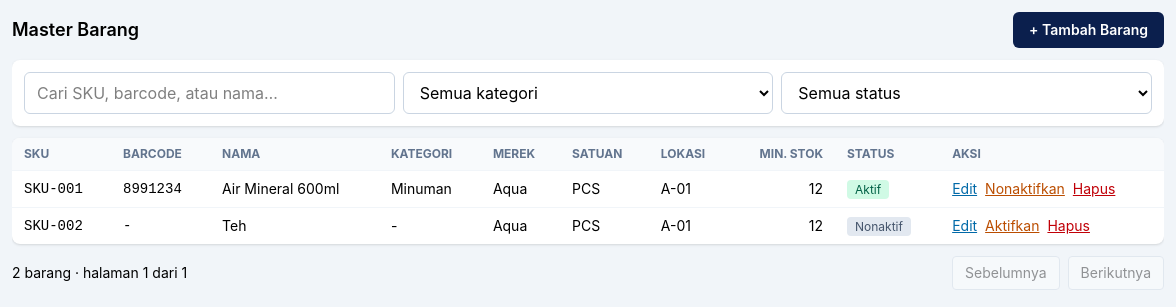
Test: Master Barang › nonaktifkan/aktifkan membalik status; hapus meminta konfirmasi
The image size is (1176, 307).
expect the text "SKU-001" is shown: met, box [12, 170, 111, 208]
Step 1. Click the button "Nonaktifkan" → (1025, 189), box [985, 179, 1065, 199]
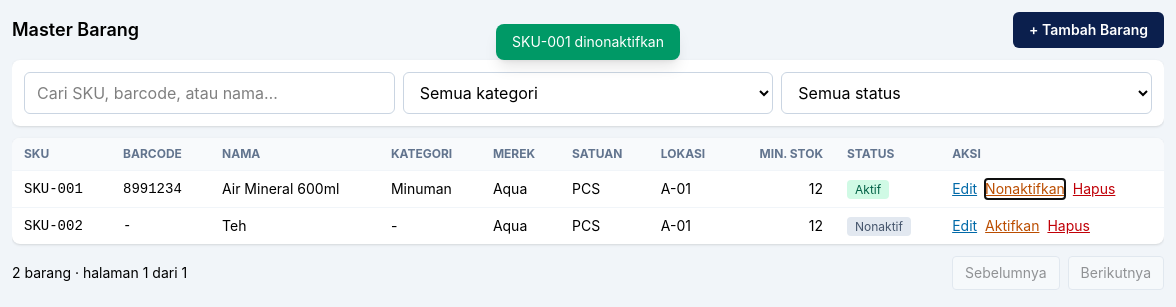
Step 2. Click the button "Aktifkan" → (1012, 226), box [985, 216, 1039, 236]
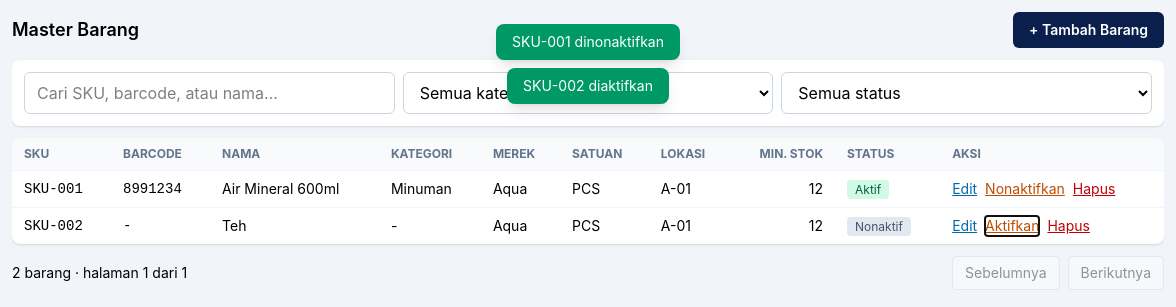
Step 3. Click the button "Hapus" in the row of "8991234" → (1094, 189), box [1073, 179, 1115, 199]
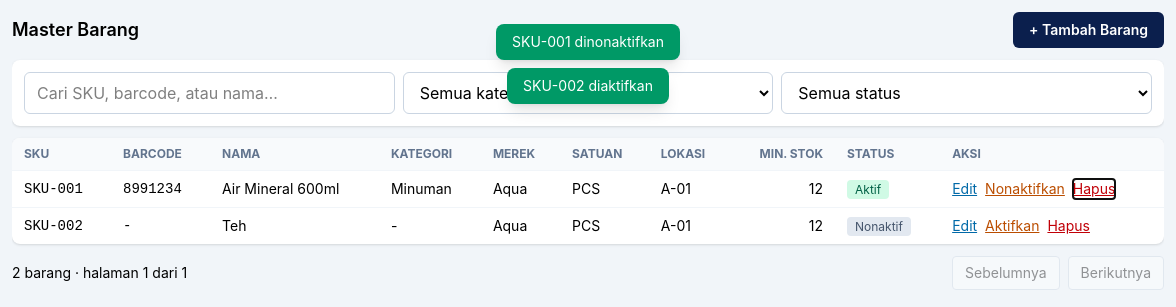
Step 4. Click the button "Hapus" in the row of "8991234" → (1094, 189), box [1073, 179, 1115, 199]
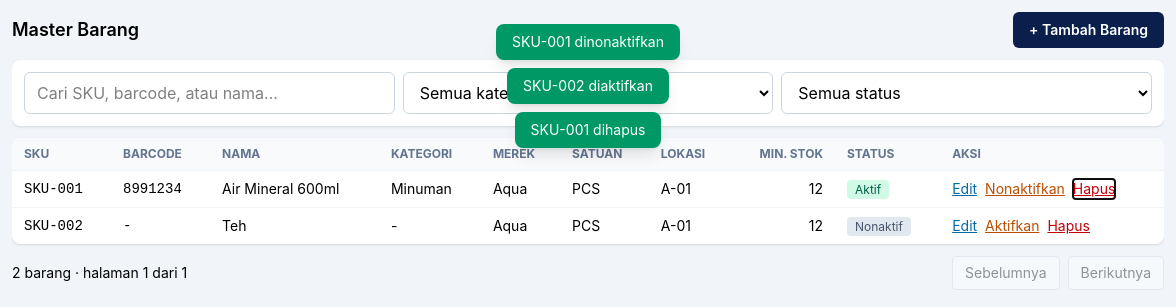
expect the text "SKU-001 dihapus" is shown: met, box [514, 112, 661, 148]
